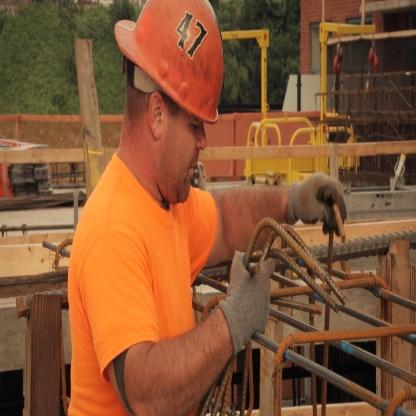helmet: (112, 0, 221, 208)
